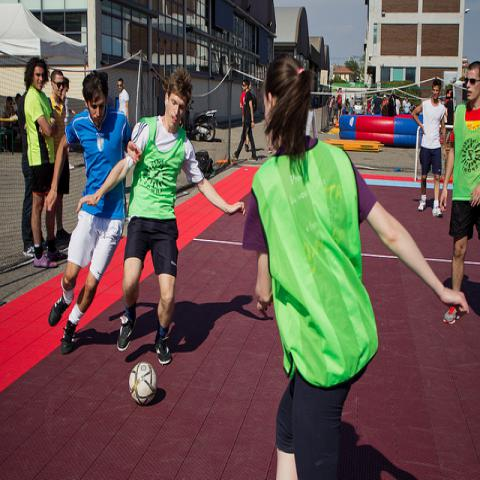motorcycle: (188, 99, 218, 143)
